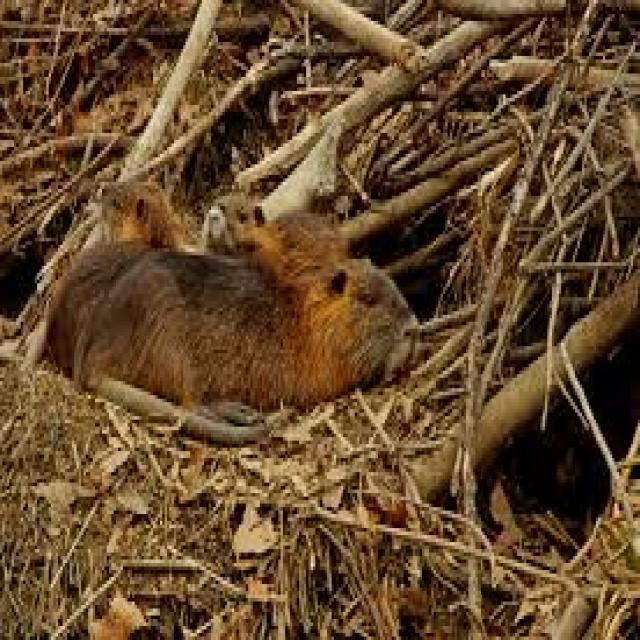Rat: (26, 148, 424, 418)
